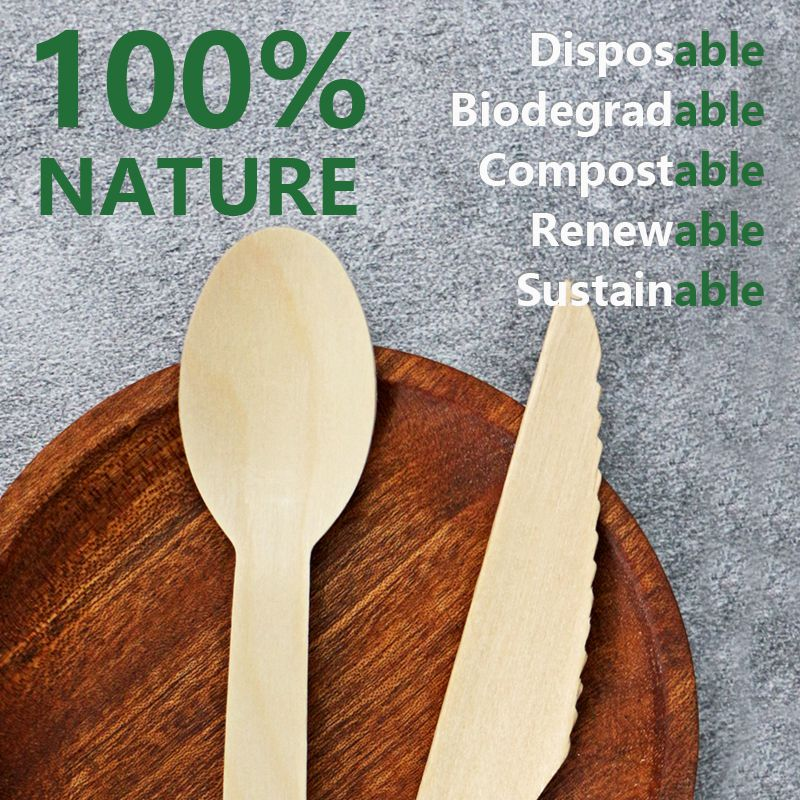Wooden Utensils: (153, 224, 626, 800)
